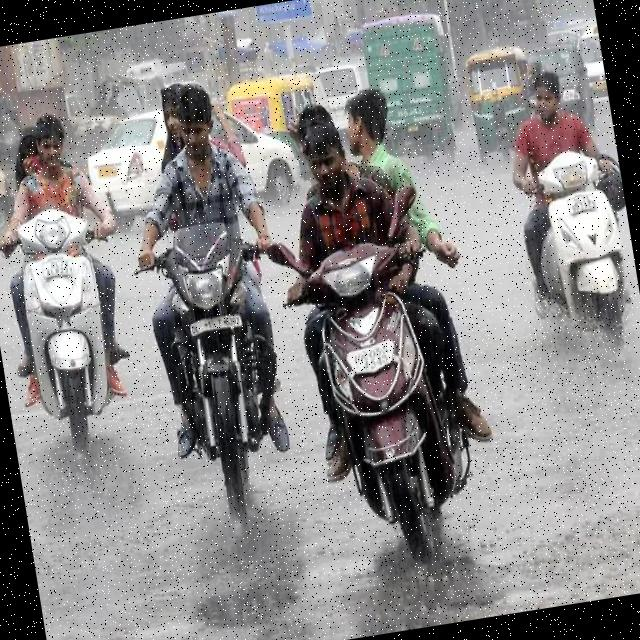No helmet: (294, 117, 362, 206), (166, 82, 229, 163), (29, 107, 74, 175), (522, 70, 574, 120)
